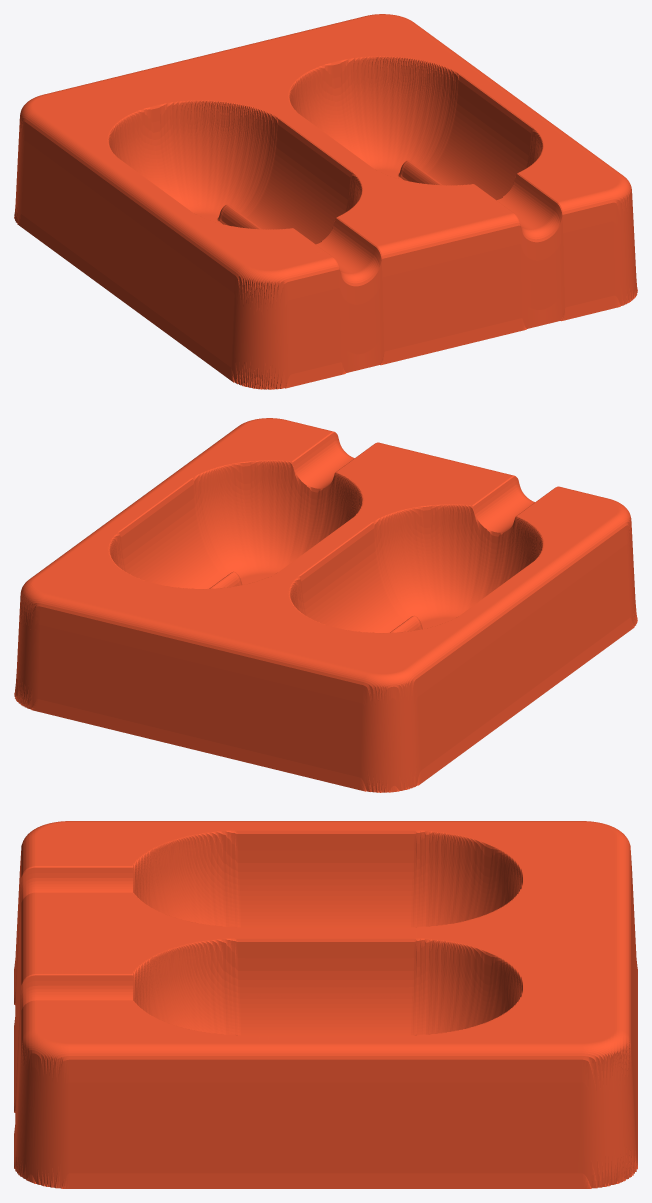
Rendered from mold.glb.
3 renders of one model, top to bottom at view 1: azimuth 30°, elevation 25°; view 2: azimuth 150°, elevation 25°; view 3: azimuth 270°, elevation 25°, orthographic. The views are drawn at different scales.
Parts seen in each view (by area): view 1: geometry_0; view 2: geometry_0; view 3: geometry_0.
Part boxes in pixels (x1,y1,x2,y2): geometry_0: (14, 14, 637, 389); geometry_0: (14, 418, 637, 792); geometry_0: (14, 821, 637, 1188).
Size of the model in its own units: 0.0925 by 0.0245 by 0.1018.
